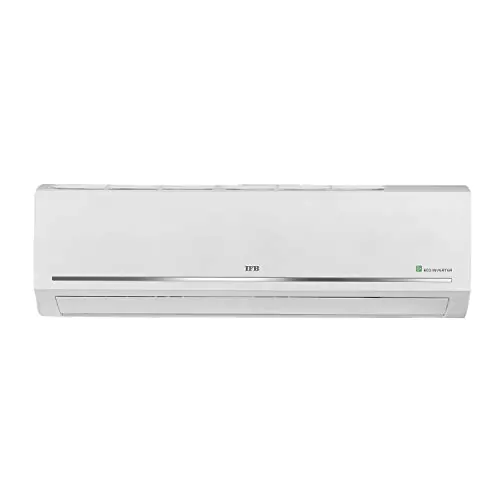ac: (32, 178, 474, 331)
